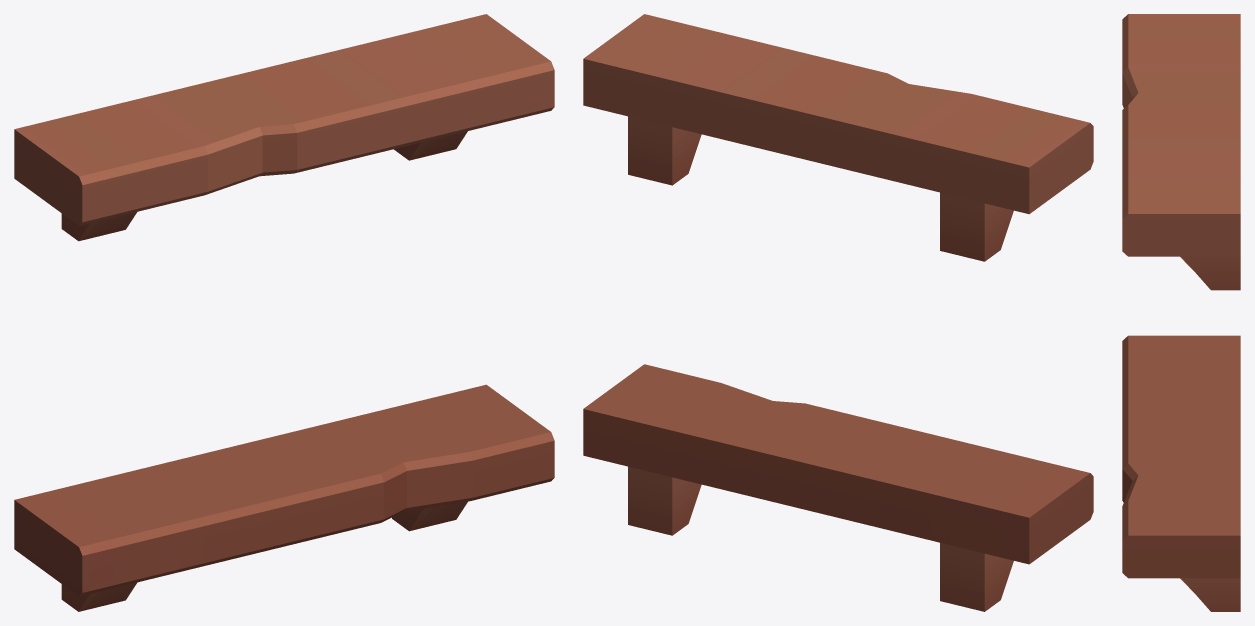
File: shelves.glb
3 views of the same model, side by side, from view 1: azimuth 30°, elevation 25°; view 2: azimuth 150°, elevation 25°; view 3: azimuth 270°, elevation 25° (orthographic). The views are drawn at different scales.
Parts seen in each view (by area): view 1: shelves; view 2: shelves; view 3: shelves.
Part boxes in pixels (x1,y1,x2,y2): shelves: (14,14,554,611); shelves: (583,14,1093,611); shelves: (1122,14,1240,611).
Bounding box in the file's own units: 2 × 1.95 × 0.5.
1 material, 1 textured.
